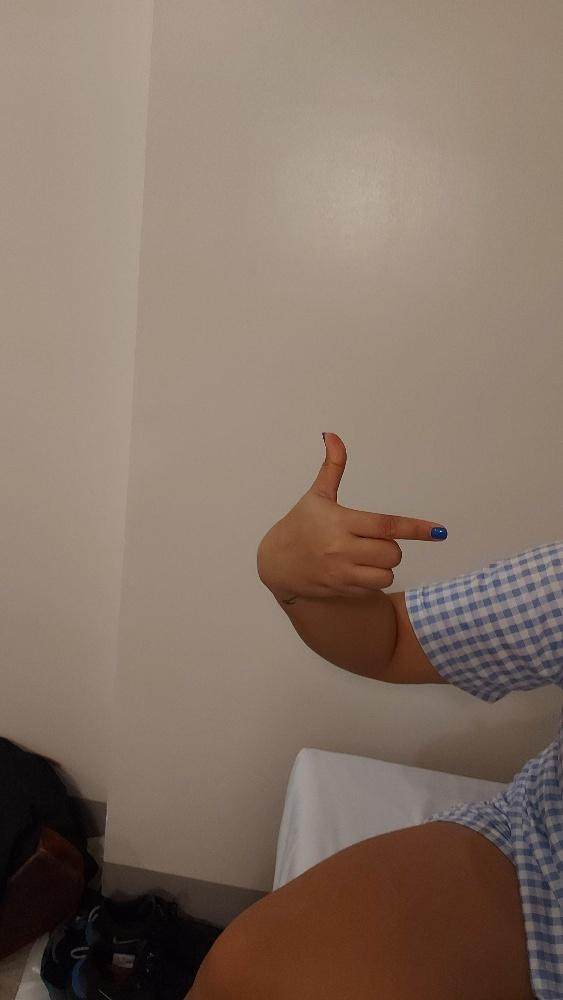g: (256, 428, 449, 596)
